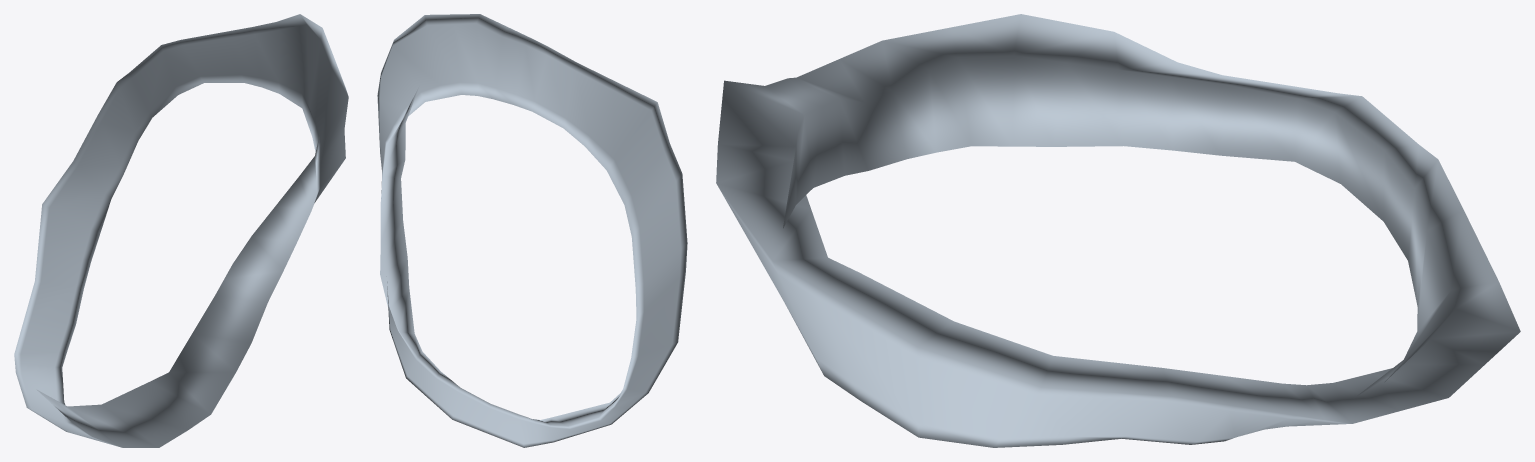
The model's file is acetabular-labrum-l.glb.
3 renders of one model, left to right at view 1: azimuth 30°, elevation 25°; view 2: azimuth 150°, elevation 25°; view 3: azimuth 270°, elevation 25°, orthographic. The views are drawn at different scales.
Visible parts, largest first — view 1: Acetabular labrum.l; view 2: Acetabular labrum.l; view 3: Acetabular labrum.l.
Part boxes in pixels (x1,y1,x2,y2): Acetabular labrum.l: (14, 14, 348, 447); Acetabular labrum.l: (377, 14, 687, 447); Acetabular labrum.l: (716, 14, 1520, 447).
Bounding box in the file's own units: 0.036 × 0.0484 × 0.0582.
